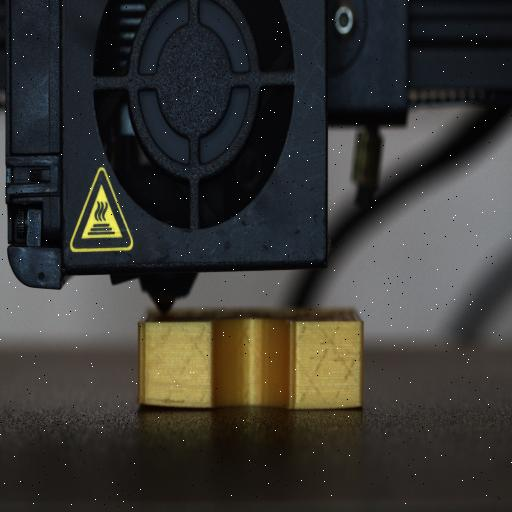warp: (133, 391, 189, 413)
